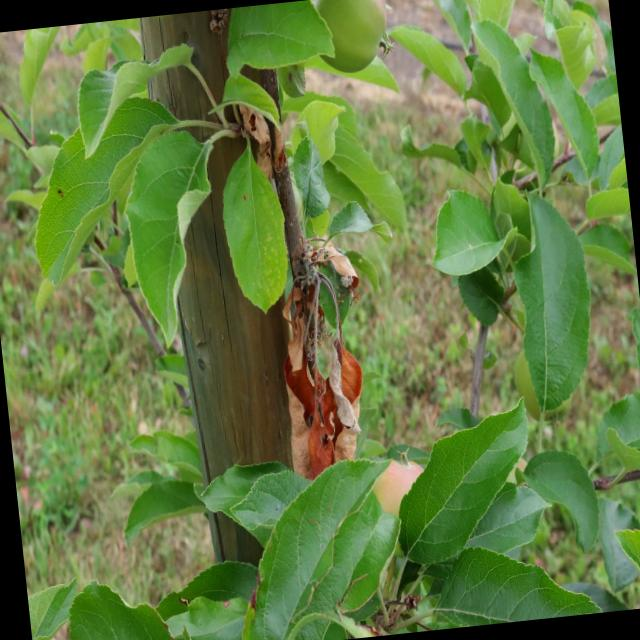-FireBlight-: (244, 102, 380, 470)
